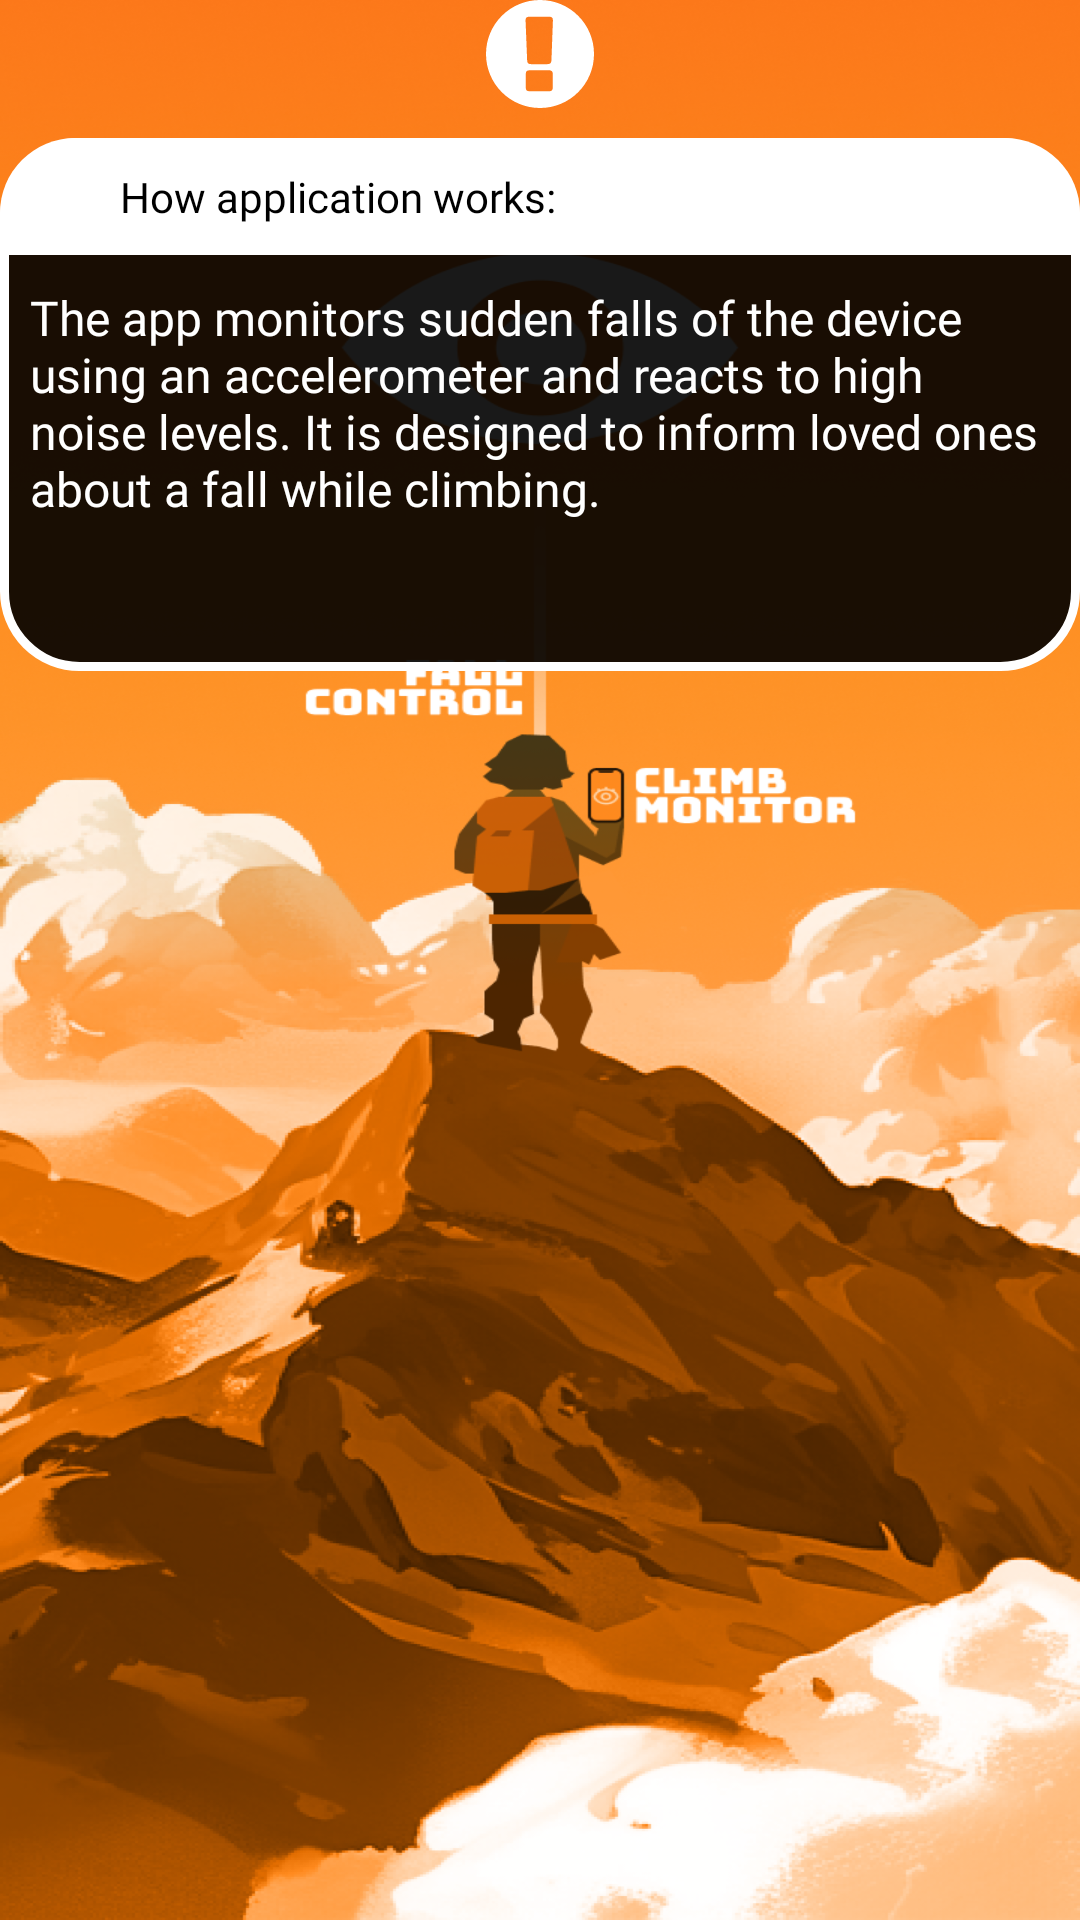

Where icons sit on this 1080px×1920px app screen, as (x1, y1, x2, y2):
error: (486, 0, 594, 108)
